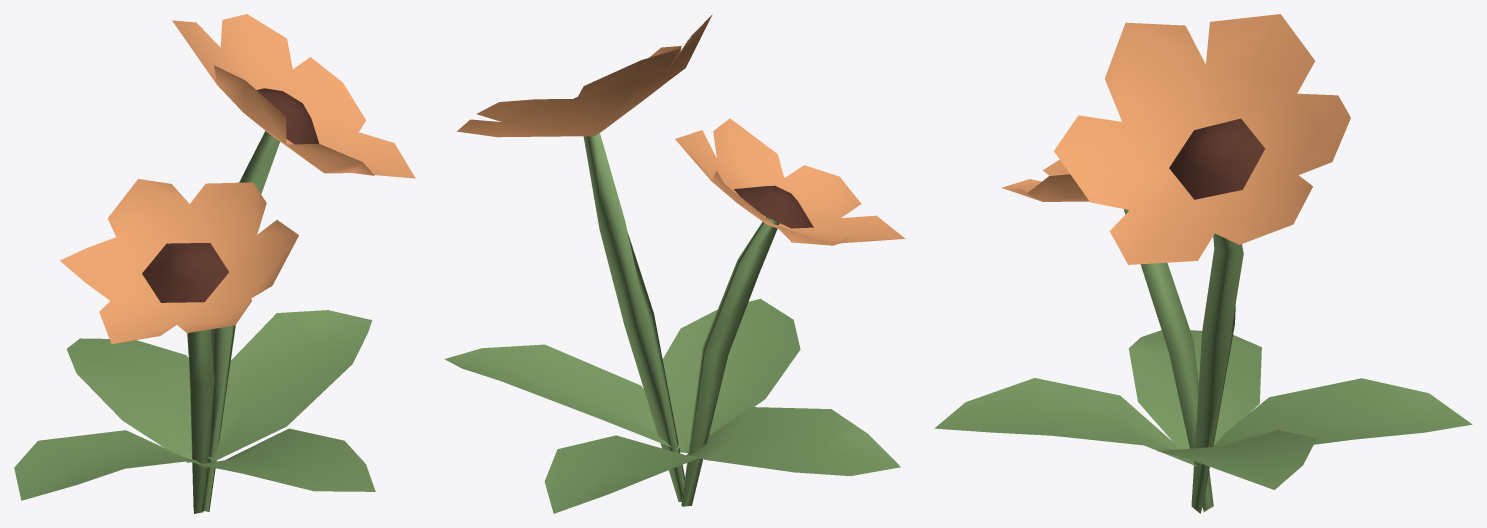
The model's file is Flower_D.fbx.
The picture shows the model from 3 angles, left to right: view 1: azimuth 30°, elevation 25°; view 2: azimuth 150°, elevation 25°; view 3: azimuth 270°, elevation 25°; orthographic projection. The views are drawn at different scales.
Parts seen in each view (by area): view 1: Flower_D; view 2: Flower_D; view 3: Flower_D.
Part boxes in pixels (x1,y1,x2,y2): Flower_D: (14, 14, 415, 513); Flower_D: (444, 14, 905, 513); Flower_D: (934, 14, 1472, 513).
Bounding box in the file's own units: 44.99 × 49.78 × 48.57.
